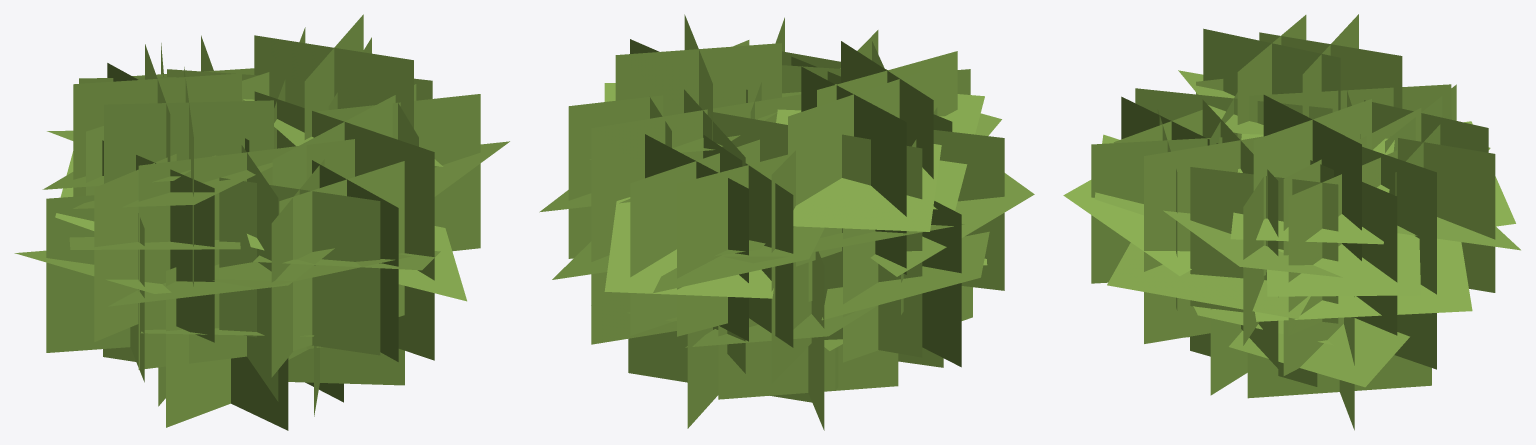
File: noisetier_1_f3_loin.glb
3 renders of one model, left to right at view 1: azimuth 30°, elevation 25°; view 2: azimuth 150°, elevation 25°; view 3: azimuth 270°, elevation 25°, orthographic. The views are drawn at different scales.
Visible parts, largest first — view 1: Noisetier_T1_f3_Leger_Loin; view 2: Noisetier_T1_f3_Leger_Loin; view 3: Noisetier_T1_f3_Leger_Loin.
Boxes of the visible parts, bbox=[...] form: Noisetier_T1_f3_Leger_Loin: bbox=[14, 14, 509, 430]; Noisetier_T1_f3_Leger_Loin: bbox=[539, 14, 1034, 430]; Noisetier_T1_f3_Leger_Loin: bbox=[1063, 14, 1520, 430].
Bounding box in the file's own units: 4.87 × 3.45 × 4.9.
